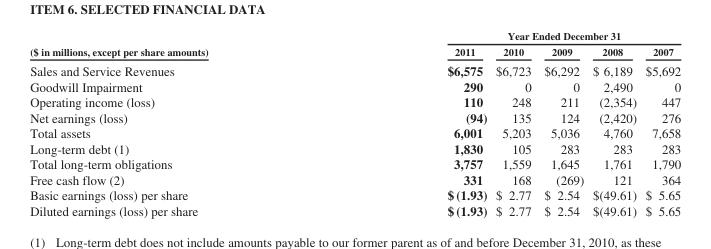table: (29, 29, 680, 217)
table column: (29, 29, 327, 217), (327, 29, 490, 217), (587, 29, 640, 217), (537, 29, 587, 217), (490, 29, 537, 217), (640, 29, 680, 217)
table column header: (29, 29, 680, 59)
table row: (29, 59, 680, 78), (29, 43, 680, 59), (29, 93, 680, 109), (29, 124, 680, 140), (29, 155, 680, 171), (29, 186, 680, 202), (29, 78, 680, 93), (29, 109, 680, 124), (29, 140, 680, 155), (29, 171, 680, 186), (29, 202, 680, 217), (29, 29, 680, 43)
table spanning cell: (29, 29, 327, 59), (327, 29, 680, 43)
